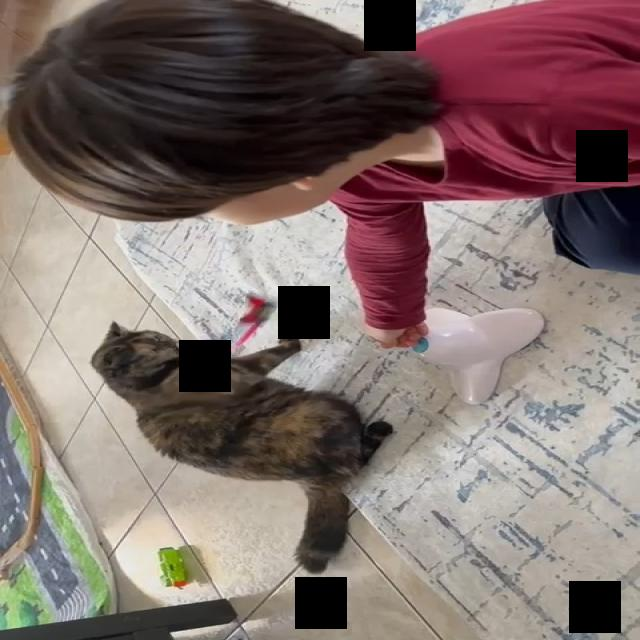authorized: (90, 320, 393, 574)
